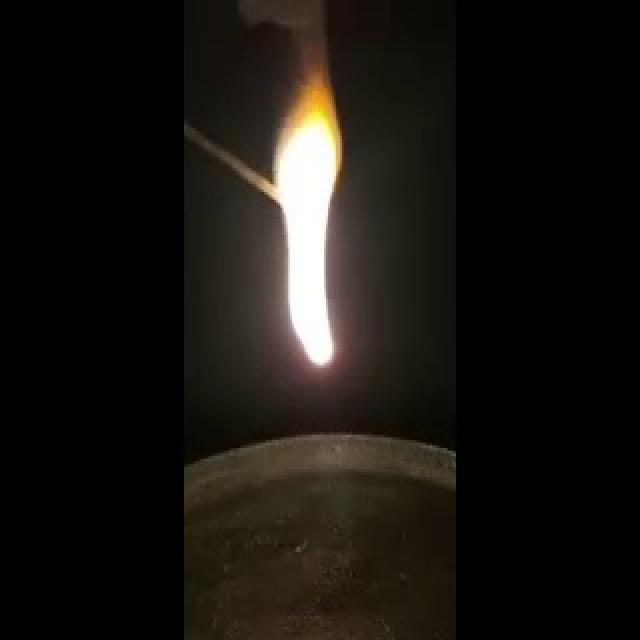fire: (263, 61, 341, 384)
